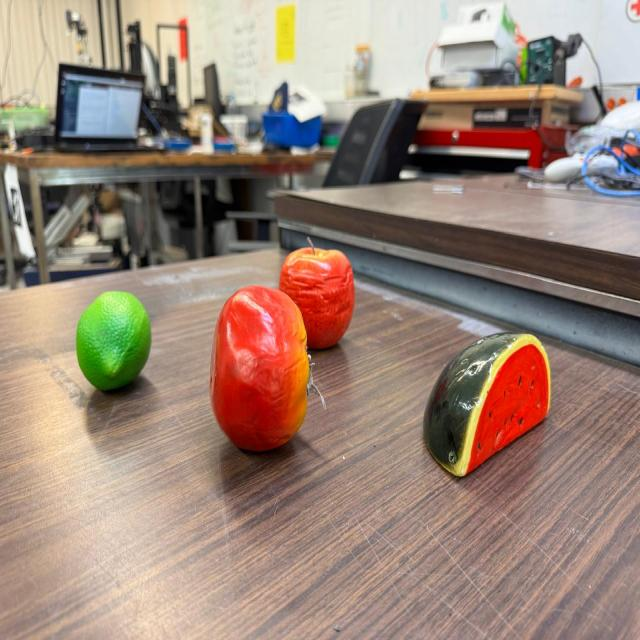apple: (278, 238, 357, 351)
lemon: (74, 291, 150, 391)
tomato: (209, 285, 314, 452)
watermelon: (422, 331, 550, 477)
